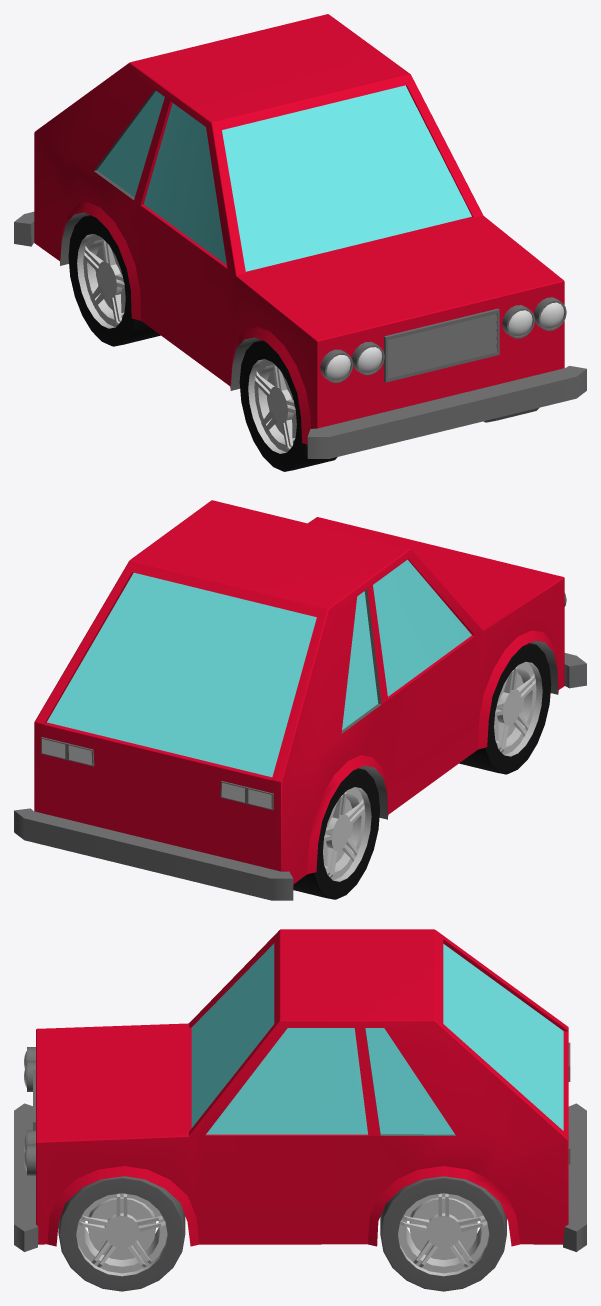
File: ART-MOD-A-CAR-RED-001.fbx
3 renders of one model, top to bottom at view 1: azimuth 30°, elevation 25°; view 2: azimuth 150°, elevation 25°; view 3: azimuth 270°, elevation 25°, orthographic. The views are drawn at different scales.
Parts seen in each view (by area): view 1: Car_Red_GEO; view 2: Car_Red_GEO; view 3: Car_Red_GEO.
Boxes of the visible parts, x1=… form: Car_Red_GEO: x1=14, y1=14, x2=586, y2=471; Car_Red_GEO: x1=14, y1=500, x2=586, y2=900; Car_Red_GEO: x1=14, y1=929, x2=586, y2=1291.
Size of the model in its own units: 227 by 216 by 429.
